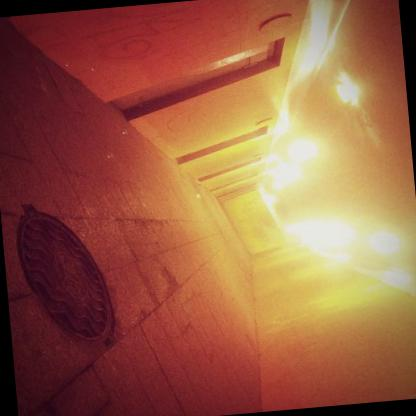manholes: (3, 186, 138, 372)
